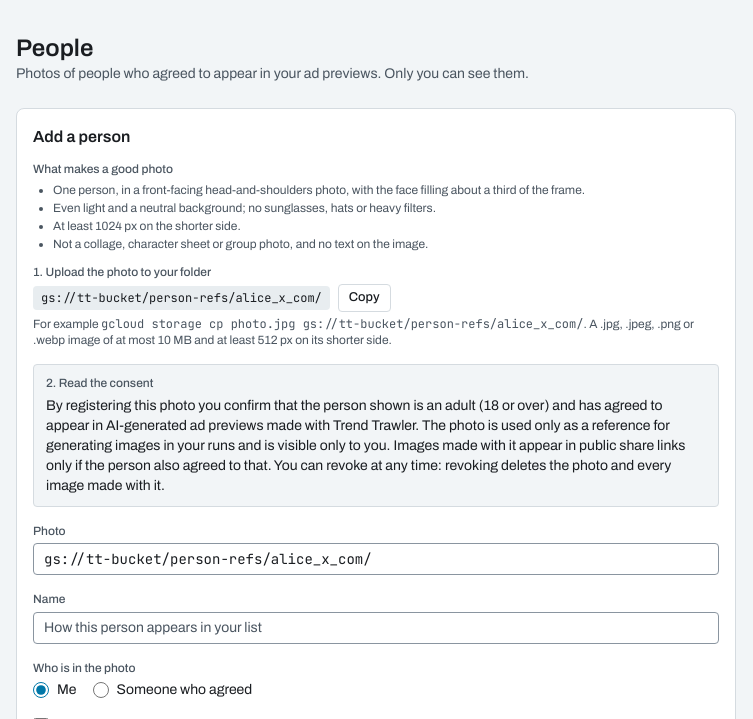
PeoplePage › explains a photo that is too small
Type "X" into the field labelled "Name".
click(376, 628); type("X")  # box [33, 612, 719, 644]
(page scrolled)
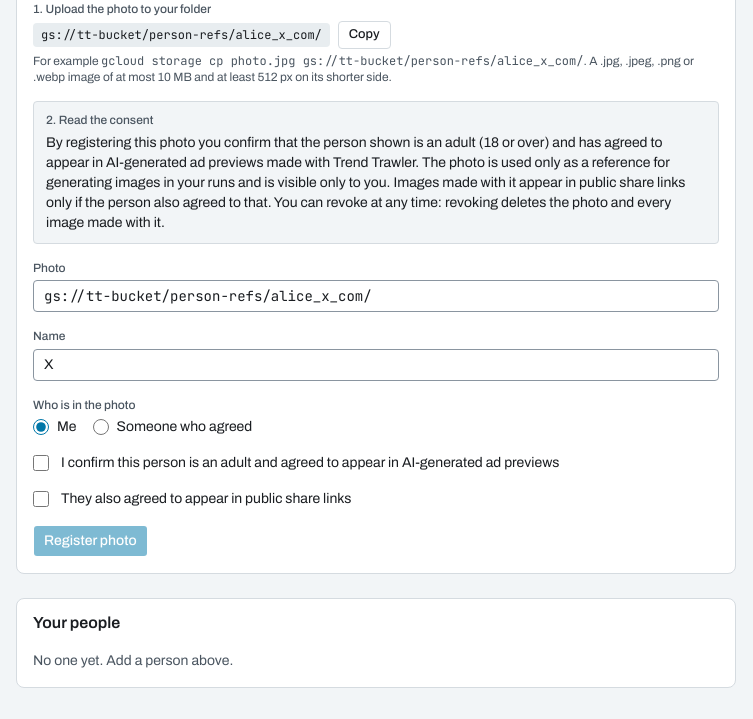
Click the checkbox labelled "is an adult and agreed to appear".
click(41, 463)  # box [33, 455, 49, 471]
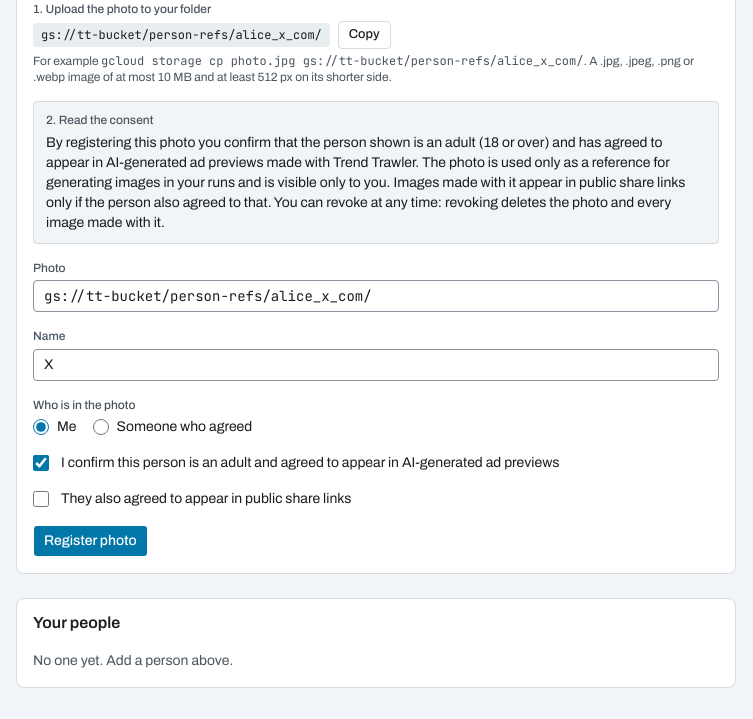
Click the button "Register photo".
click(90, 541)  # box [33, 525, 148, 557]
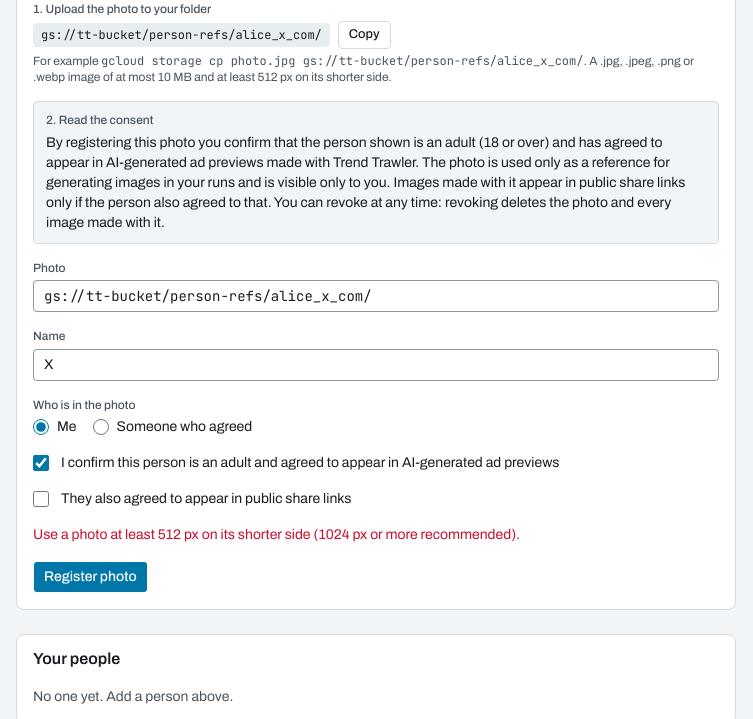
Result: the message shows "at least 512 px on its shorter side" at [33, 527, 520, 542]
